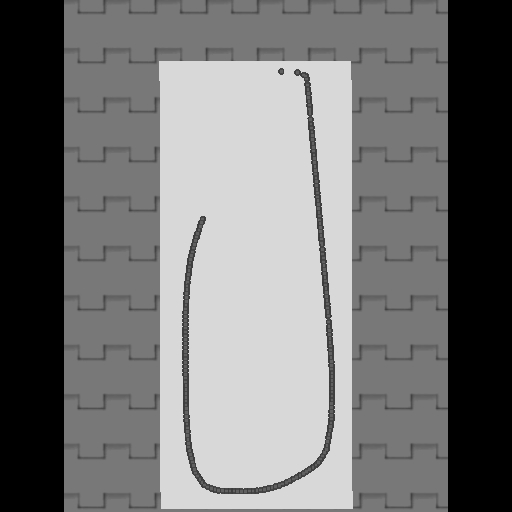Defect: (186, 78, 209, 218)
